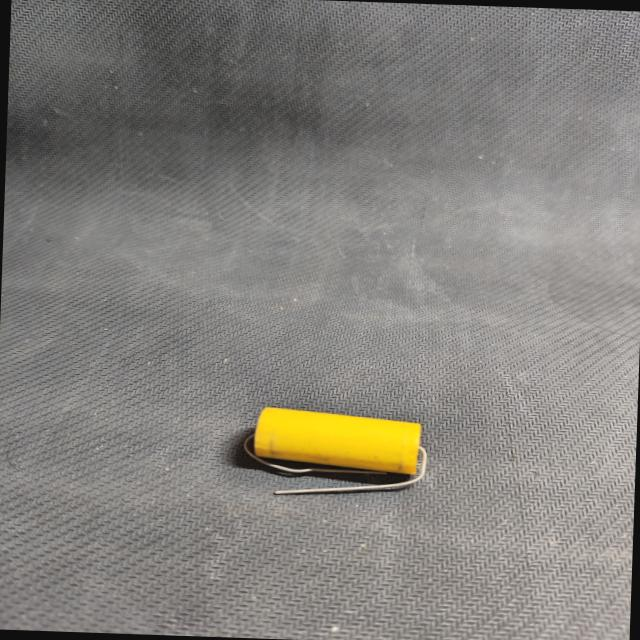capacitor: (230, 401, 438, 508)
